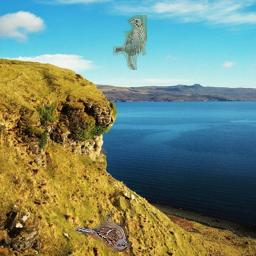Sparrow: (76, 212, 131, 253), (113, 16, 147, 71)
